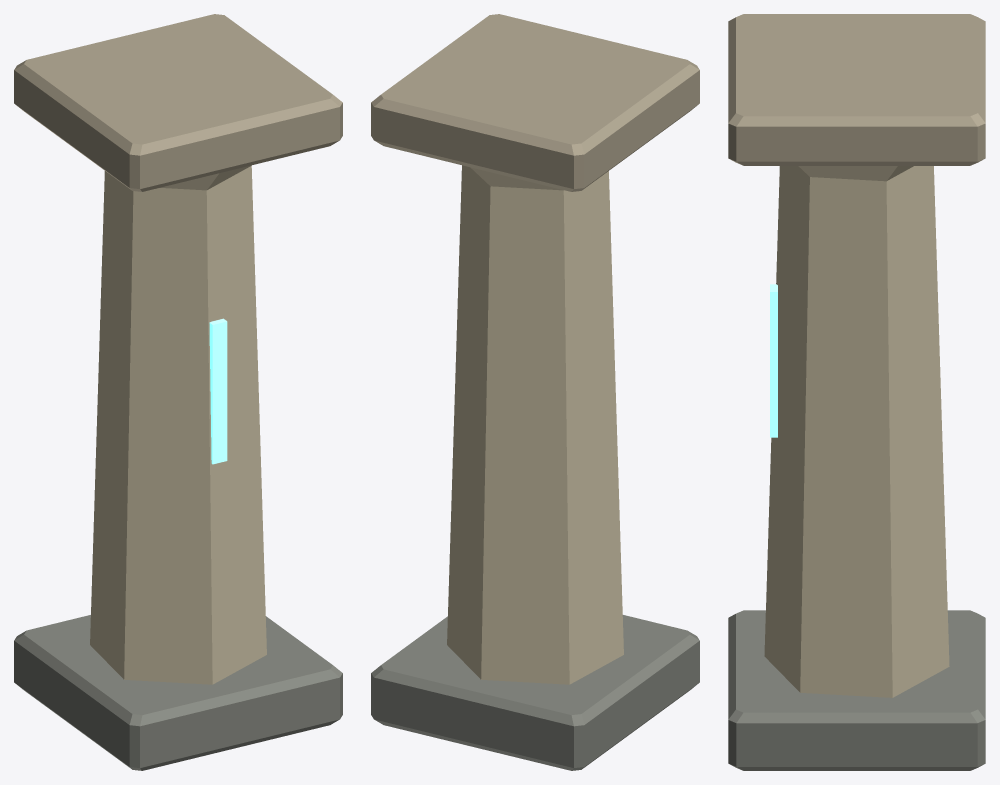
File: SM_RUI_MOD_000_IntactPillar.glb
3 views of the same model, side by side, from view 1: azimuth 30°, elevation 25°; view 2: azimuth 150°, elevation 25°; view 3: azimuth 270°, elevation 25° (orthographic). The views are drawn at different scales.
Parts seen in each view (by area): view 1: SM_RUI_MOD_000_IntactPillar; view 2: SM_RUI_MOD_000_IntactPillar; view 3: SM_RUI_MOD_000_IntactPillar.
Part boxes in pixels (<box>): SM_RUI_MOD_000_IntactPillar: <box>14,14,342,770</box>; SM_RUI_MOD_000_IntactPillar: <box>371,14,699,770</box>; SM_RUI_MOD_000_IntactPillar: <box>728,14,985,770</box>.
Size of the model in its own units: 0.8 by 2.24 by 0.8.
